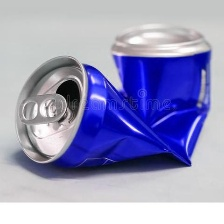can: (13, 14, 220, 179)
